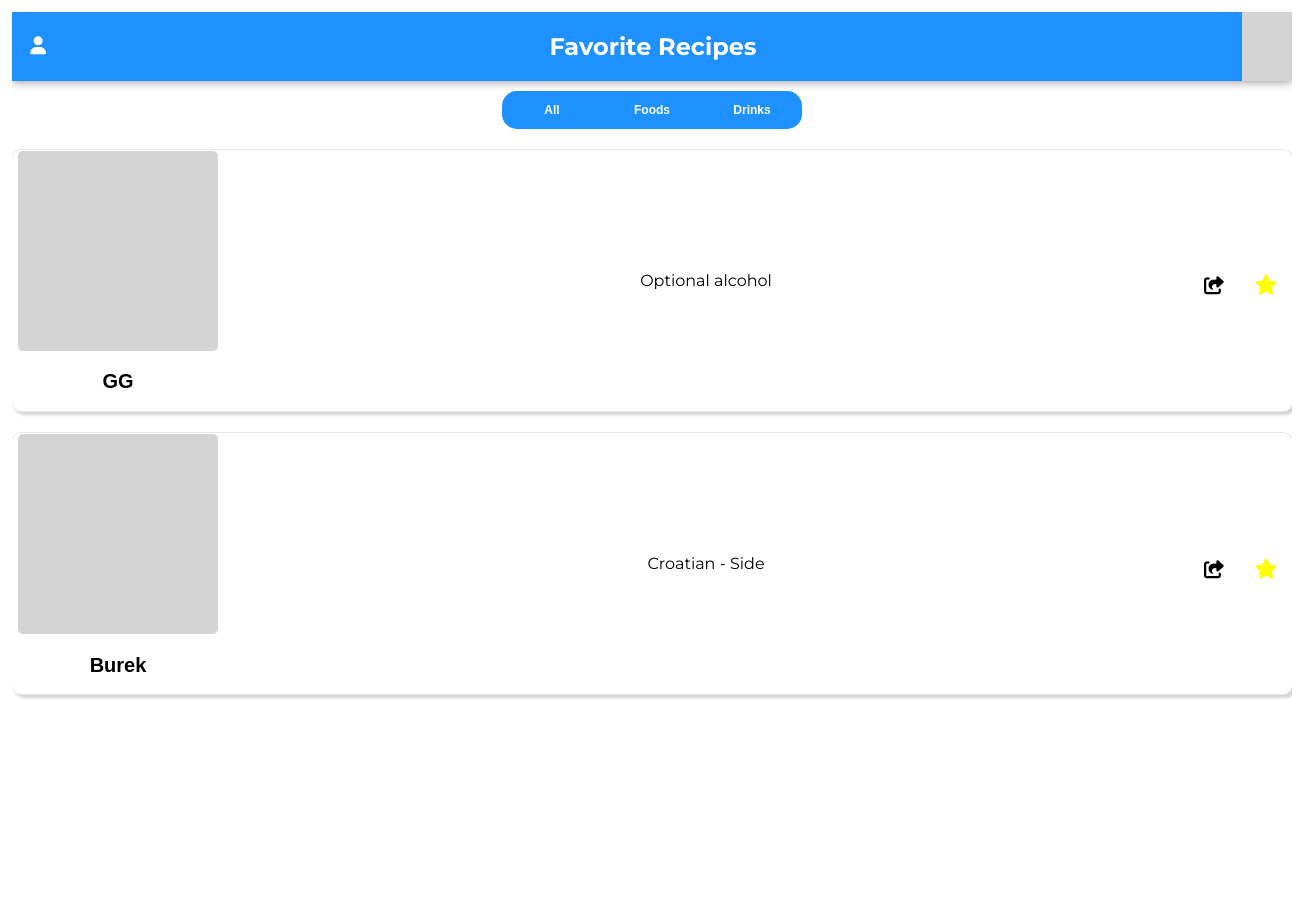
it: Teste da página Favorite Recipes › Teste se os filtros, All, Foods, Drinks se aplicam corretamente
Expected: the heading "GG" is shown, [102,370,134,392]
Expected: the heading "Burek" is shown, [90,654,146,676]
Click the button "Foods". click: [652, 110]
box: [602,91,702,129]
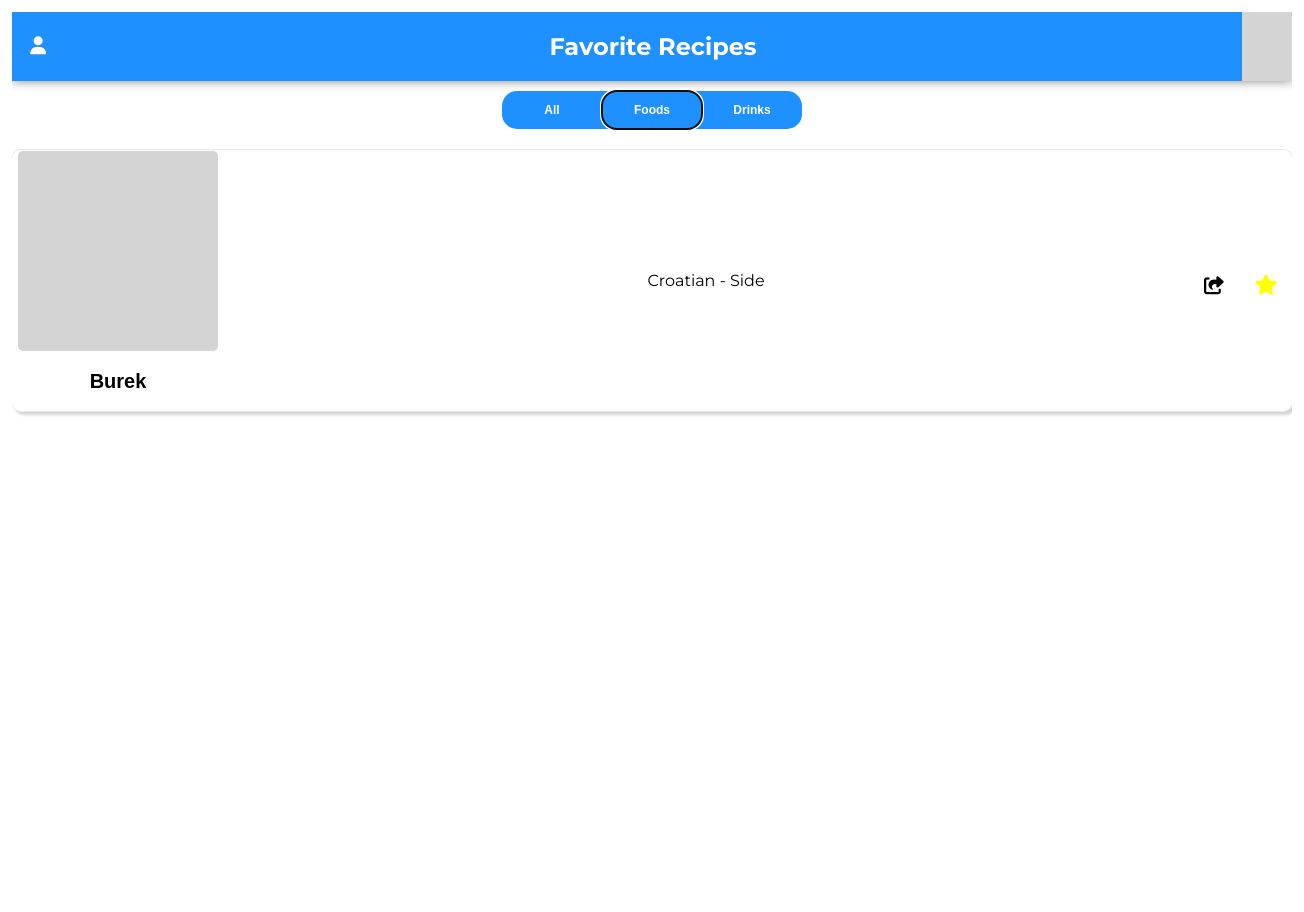
Expected: the heading "Burek" is shown, [90,370,146,392]
Now the button "GG" is gone
Click the button "All". click: [552, 110]
box: [502,91,602,129]
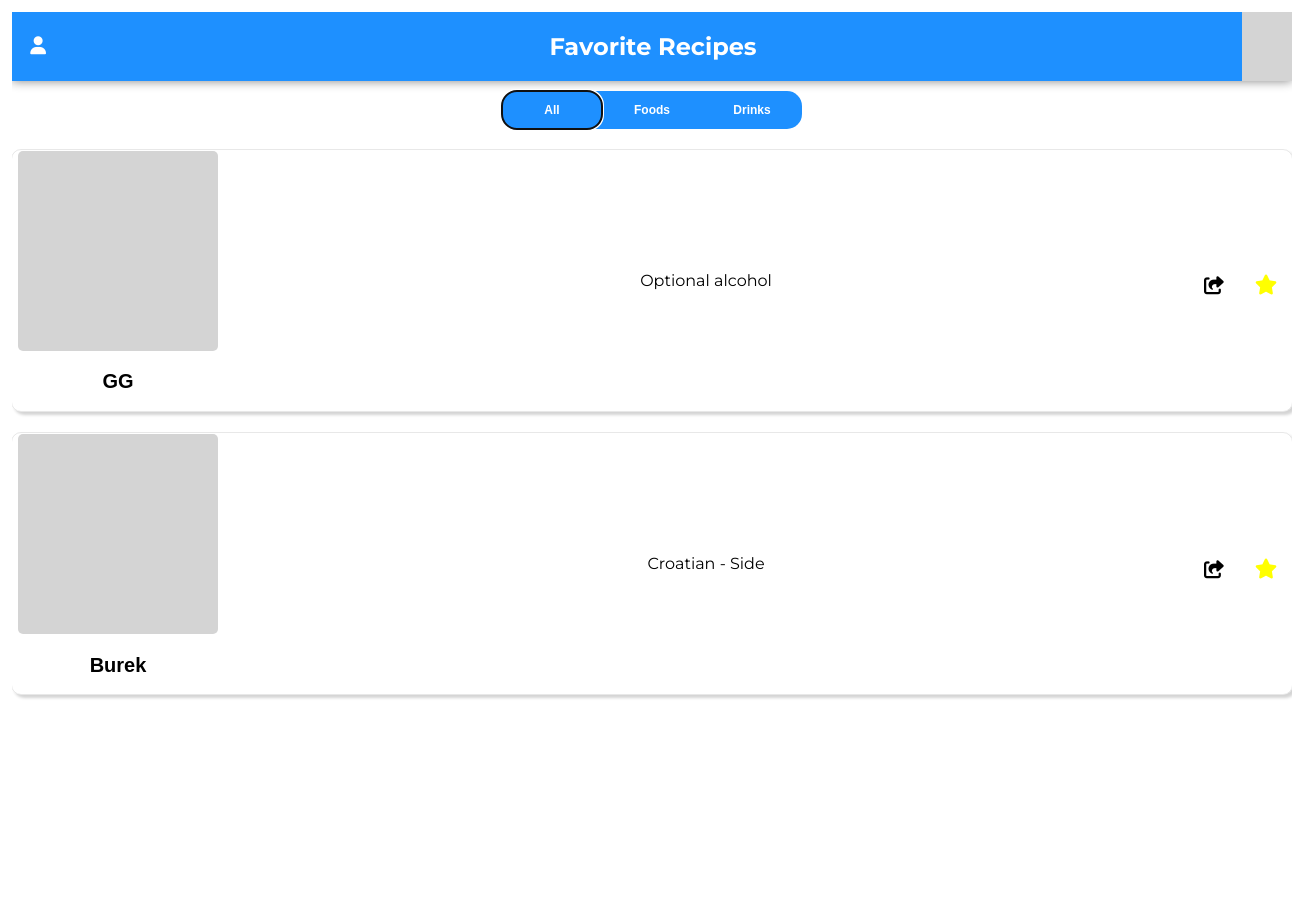
Expected: the heading "Burek" is shown, [90,654,146,676]
Now the heading "GG" is shown, box [102,370,134,392]
Click the button "Drinks". click: [752, 110]
box: [702,91,802,129]
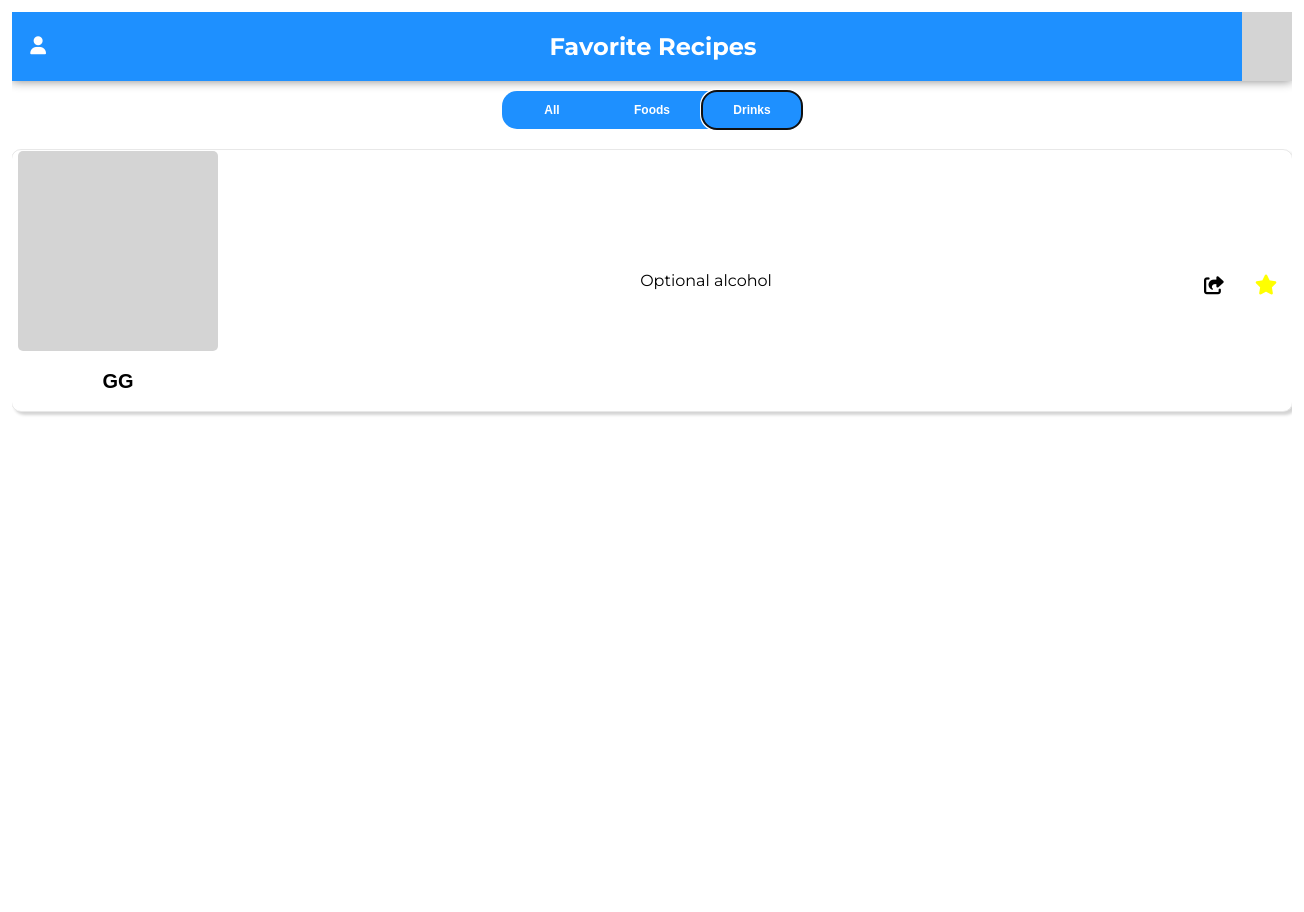
Now the heading "GG" is shown, box [102,370,134,392]
Now the button "Burek" is gone
